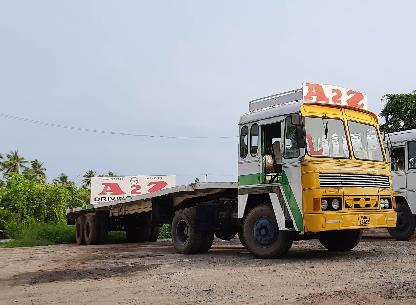truck: (64, 77, 406, 265)
